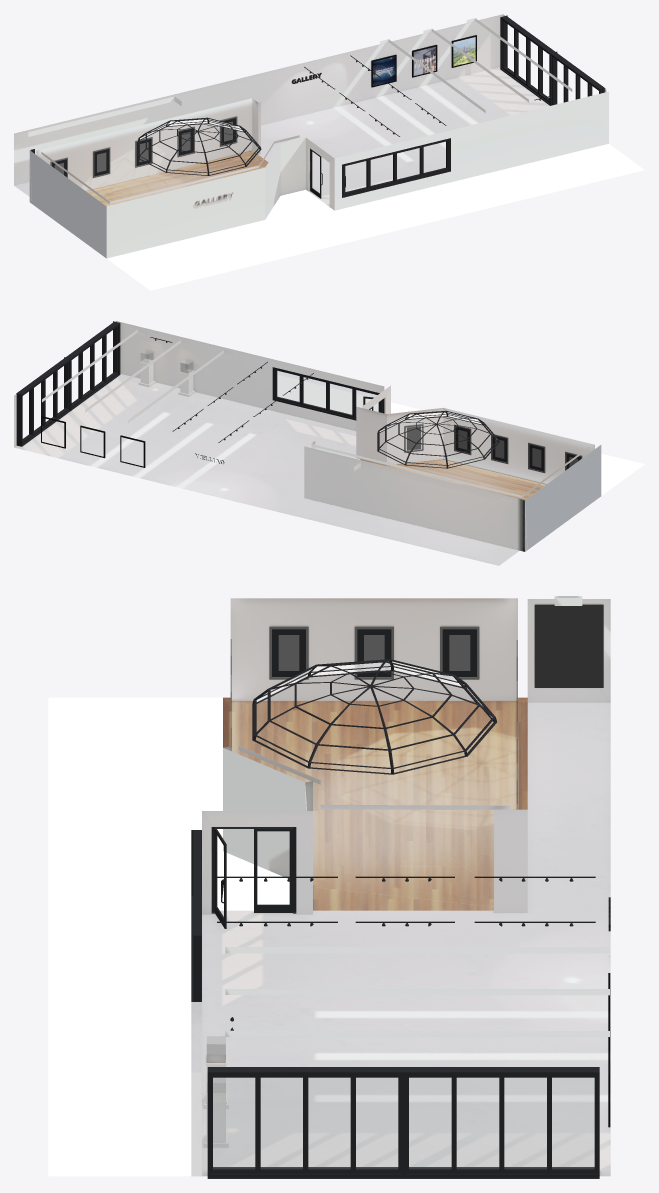
File: art-gallery23.glb
3 renders of one model, top to bottom at view 1: azimuth 30°, elevation 25°; view 2: azimuth 150°, elevation 25°; view 3: azimuth 270°, elevation 25°, orthographic. The views are drawn at different scales.
Visible parts, largest first — view 1: ParedesPrincipais, Paredes, Chao_entrada.001, Chao_entrada, Metais, Chao_madeira, Sphere.002, Todos os quadros, Quadros_entrada, p_DNA Project, p_Real Estate Project, p_Windland Project; view 2: Chao_entrada, ParedesPrincipais, Paredes, Metais, Chao_entrada.001, Chao_madeira, Todos os quadros, Sphere.002, Quadros_entrada; view 3: Chao_entrada, Chao_entrada.001, Metais, Chao_madeira, Paredes, ParedesPrincipais, Todos os quadros, Sphere.002.
Part boxes in pixels (box(x1,y1,x2,y2)): ParedesPrincipais: box(14, 14, 608, 210); Paredes: box(29, 98, 334, 258); Chao_entrada.001: box(107, 144, 644, 290); Chao_entrada: box(14, 67, 549, 206); Metais: box(304, 15, 605, 198); Chao_madeira: box(86, 150, 268, 206); Sphere.002: box(138, 117, 261, 175); Todos os quadros: box(50, 116, 237, 177); Quadros_entrada: box(371, 35, 476, 87); p_DNA Project: box(373, 56, 395, 85); p_Real Estate Project: box(413, 46, 435, 75); p_Windland Project: box(453, 37, 475, 66); Chao_entrada: box(14, 374, 519, 565); ParedesPrincipais: box(14, 321, 524, 551); Paredes: box(309, 385, 601, 551); Metais: box(16, 321, 384, 446); Chao_entrada.001: box(277, 374, 644, 495); Chao_madeira: box(360, 459, 546, 499); Todos os quadros: box(404, 424, 582, 472); Sphere.002: box(377, 410, 499, 468); Quadros_entrada: box(41, 416, 145, 467); Chao_entrada: box(191, 702, 610, 1176); Chao_entrada.001: box(48, 697, 289, 1176); Metais: box(191, 827, 599, 1178); Chao_madeira: box(223, 697, 527, 910); Paredes: box(223, 598, 517, 878); ParedesPrincipais: box(191, 596, 610, 1175); Todos os quadros: box(230, 604, 603, 809); Sphere.002: box(252, 659, 496, 774).
Size of the model in its own units: 62.24 by 8.29 by 30.8.
18 materials, 8 textured.
